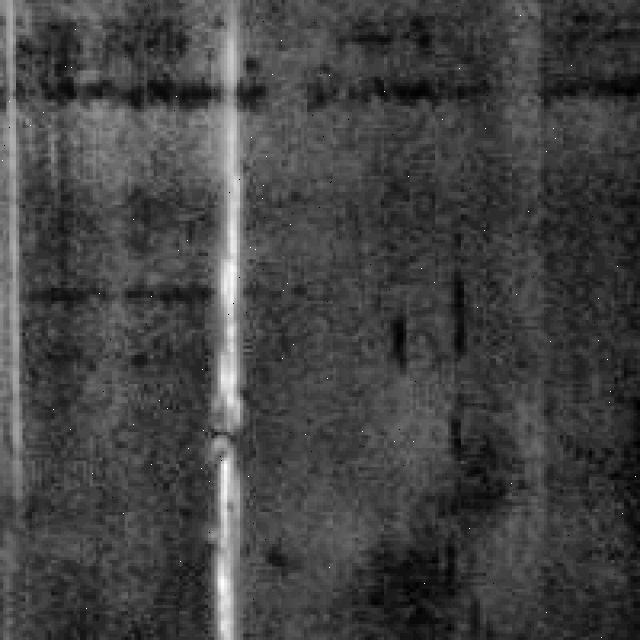Inclusion: (205, 16, 262, 637)
